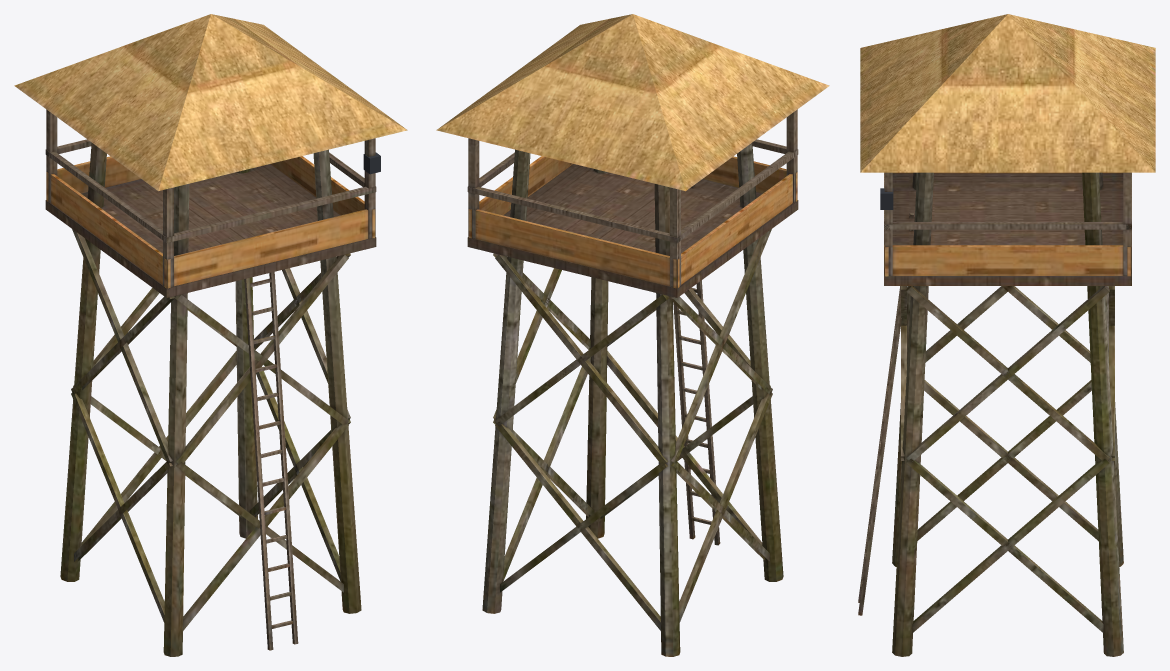
Rendered from tower_wood.glb.
3 renders of one model, left to right at view 1: azimuth 30°, elevation 25°; view 2: azimuth 150°, elevation 25°; view 3: azimuth 270°, elevation 25°, orthographic. The views are drawn at different scales.
Visible parts, largest first — view 1: tower_wood; view 2: tower_wood; view 3: tower_wood.
Boxes of the visible parts, box(x1,y1,x2,y2) form: tower_wood: box(14, 14, 407, 656); tower_wood: box(436, 14, 829, 656); tower_wood: box(858, 14, 1155, 656).
Bounding box in the file's own units: 5 × 11.11 × 5.03.
Materials: 2 (1 with a texture image).
